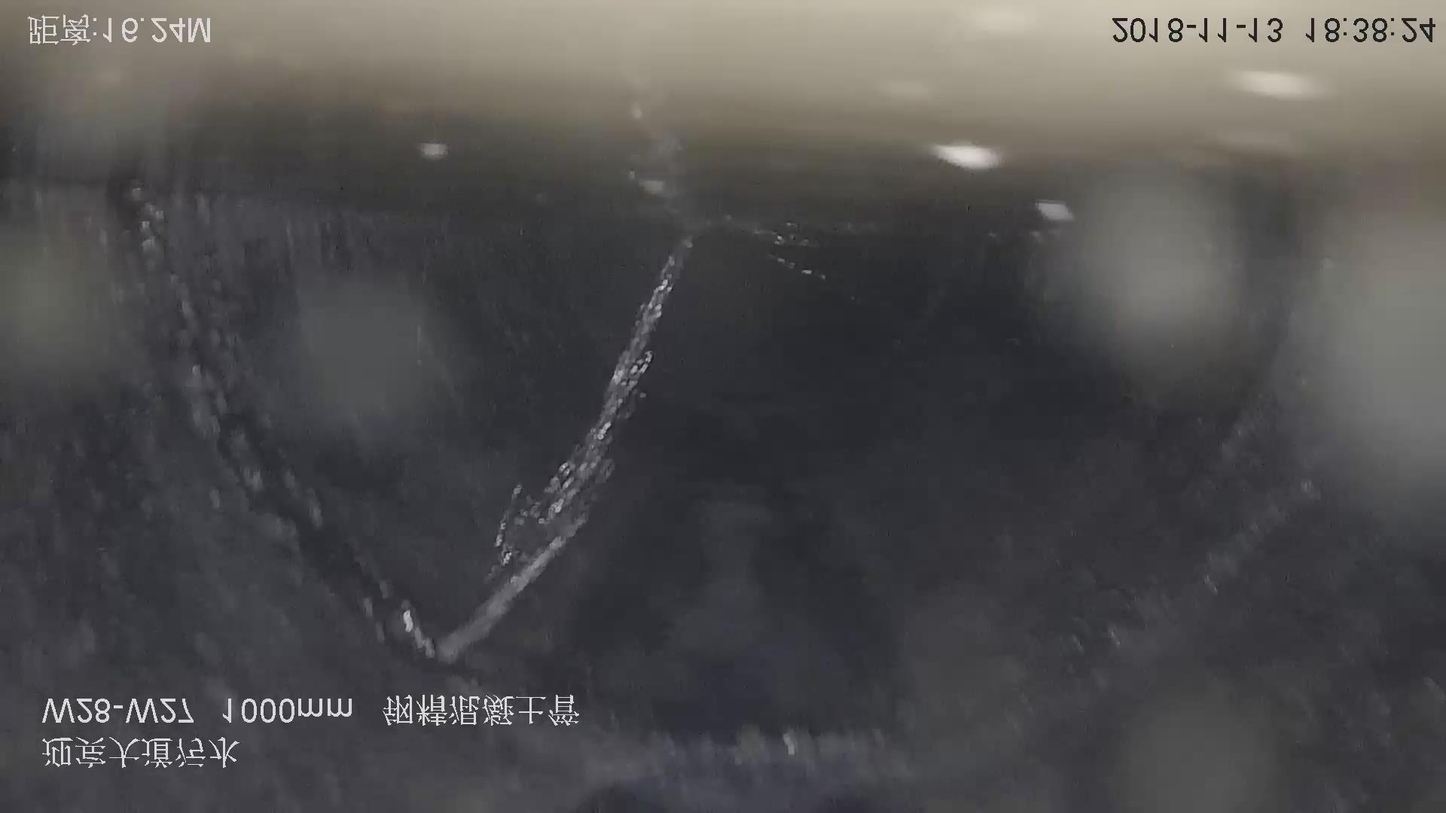SL: (410, 221, 741, 673)
